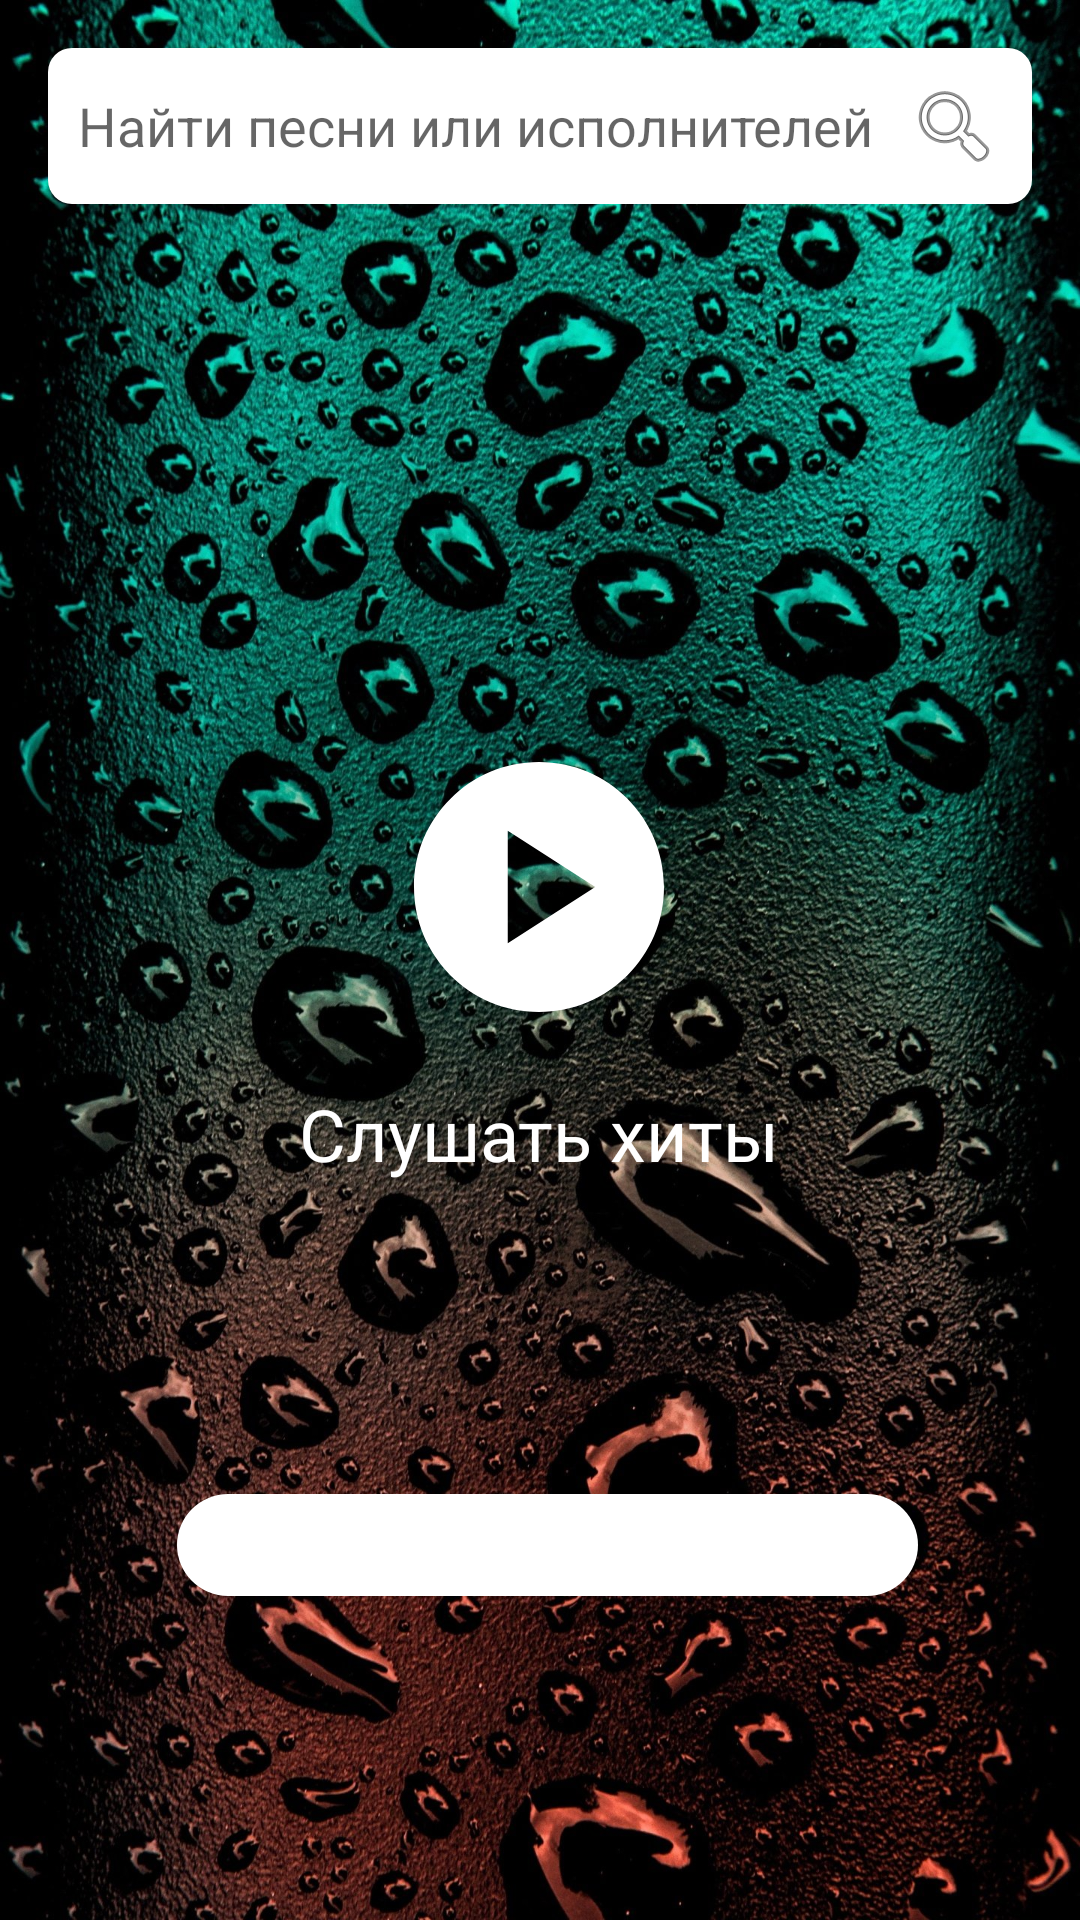

Screen size 1080 × 1920. Icon name, then its center in pixels as (x=x, y=y):
play circle: (x=539, y=887)
